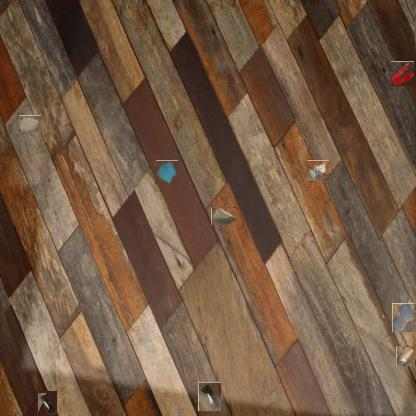dirty: (198, 382, 221, 411), (156, 161, 179, 185), (37, 392, 57, 416), (308, 160, 329, 182), (211, 207, 236, 225), (396, 346, 415, 366), (19, 115, 41, 132)
liquid: (392, 303, 415, 332), (390, 62, 415, 86)
